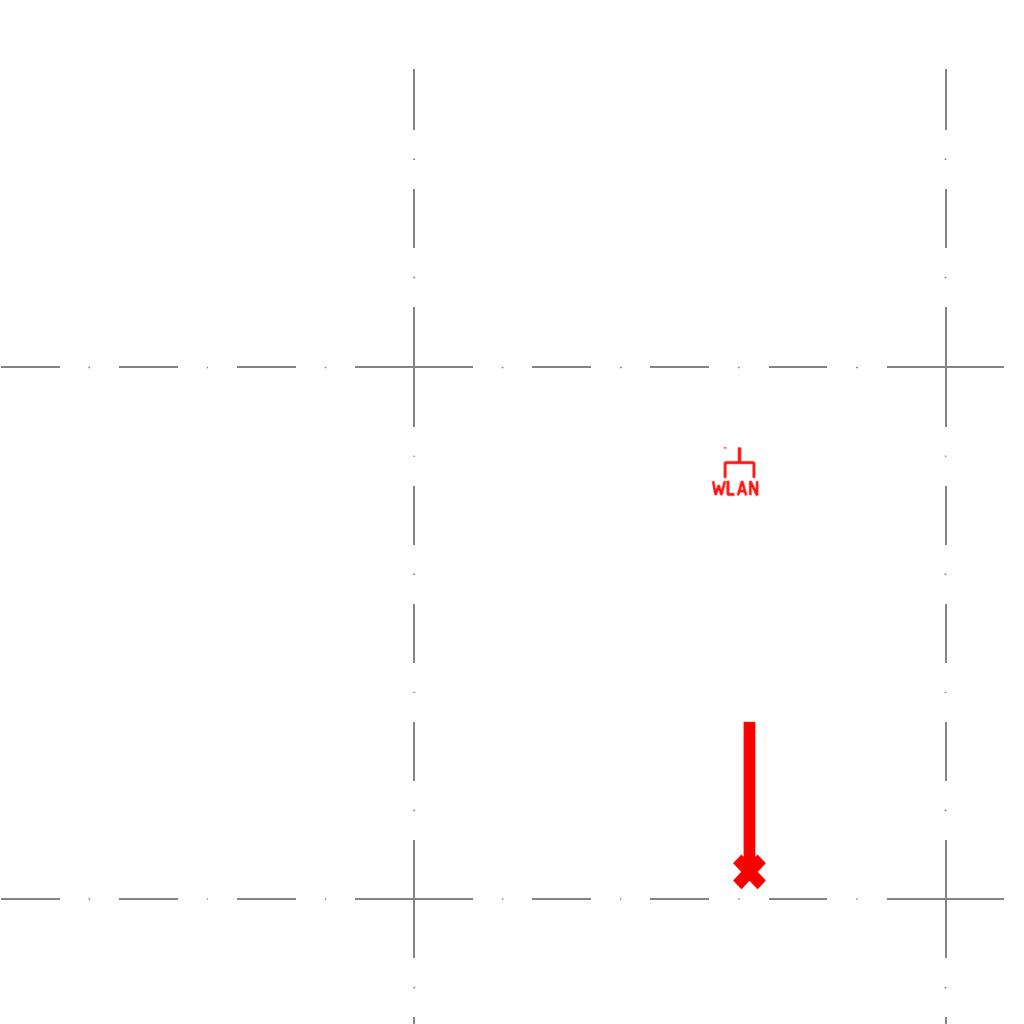ASR_Ansaugoeffnung: (724, 716, 770, 892)
WLAN: (709, 445, 761, 497)
